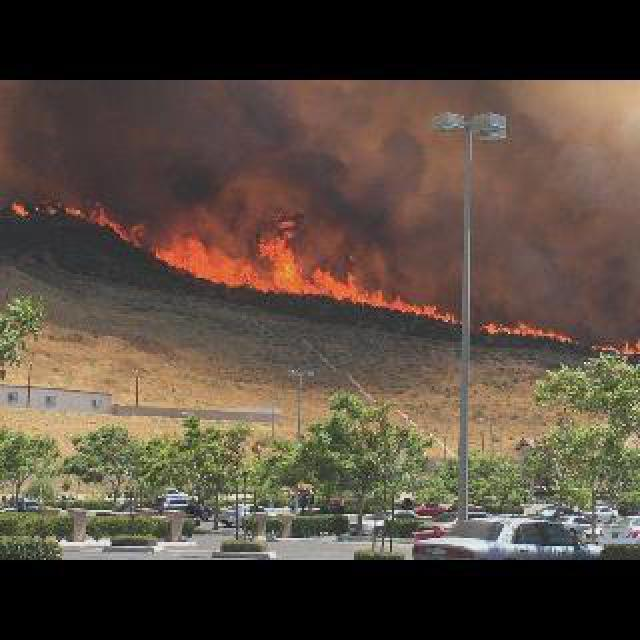fire: (160, 224, 460, 326), (484, 320, 636, 354), (40, 198, 104, 246)
